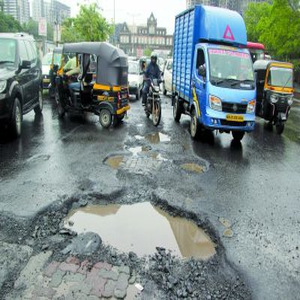pothole: (38, 191, 224, 269), (176, 154, 209, 174), (138, 132, 173, 145)
